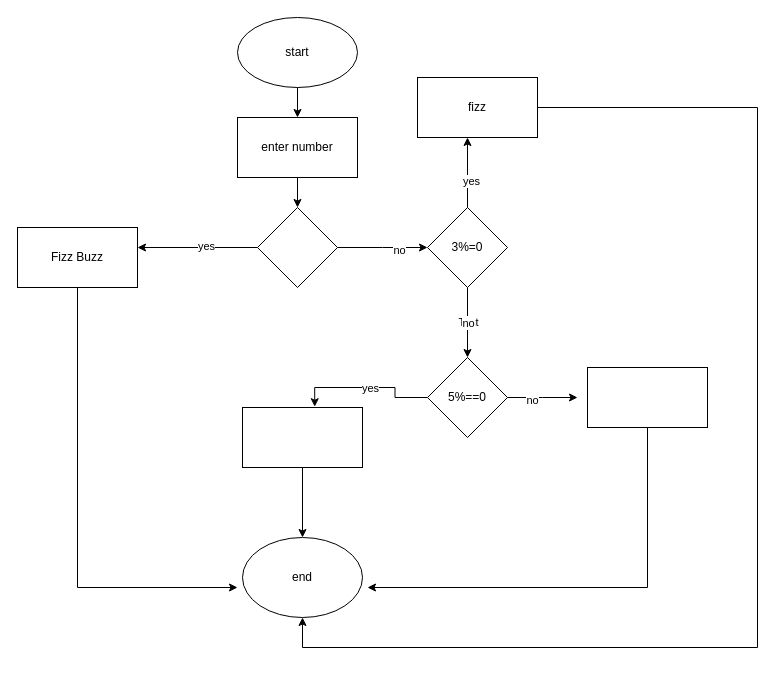
The diagram is 783 pixels wide and 673 high, and some of its shapes have lost their labels. The shapes that lost their labels are listed below. From the top down, each one's box as (x1, y1, x2, y2) in pixels, then its label:
(256, 206, 338, 288): is number 15%=0
(586, 366, 708, 428): goster
(242, 406, 362, 468): buzz
